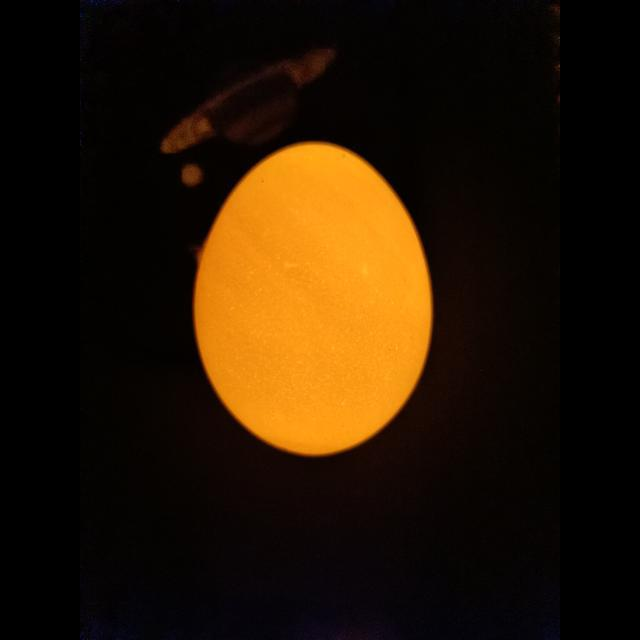AA - Premium: (194, 143, 433, 455)
